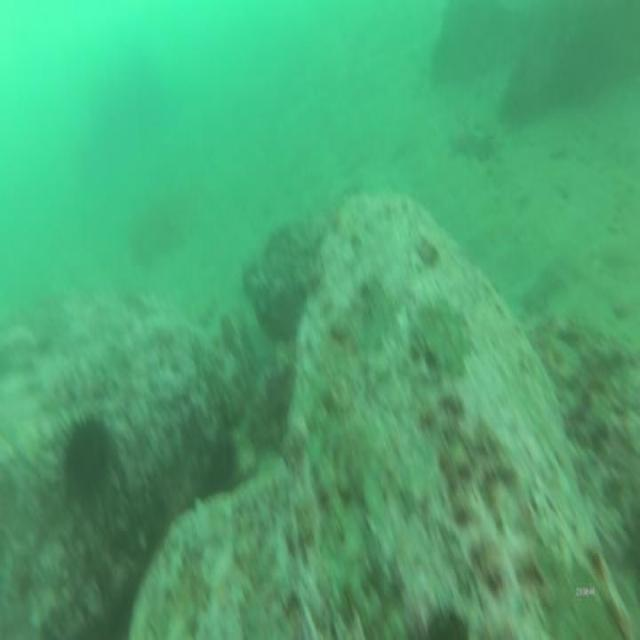echinus: (59, 406, 117, 503)
